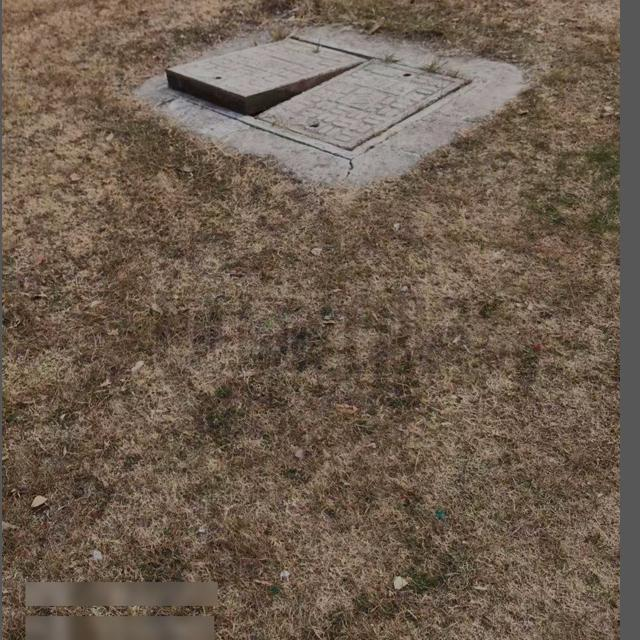uncovered: (162, 31, 472, 161)
